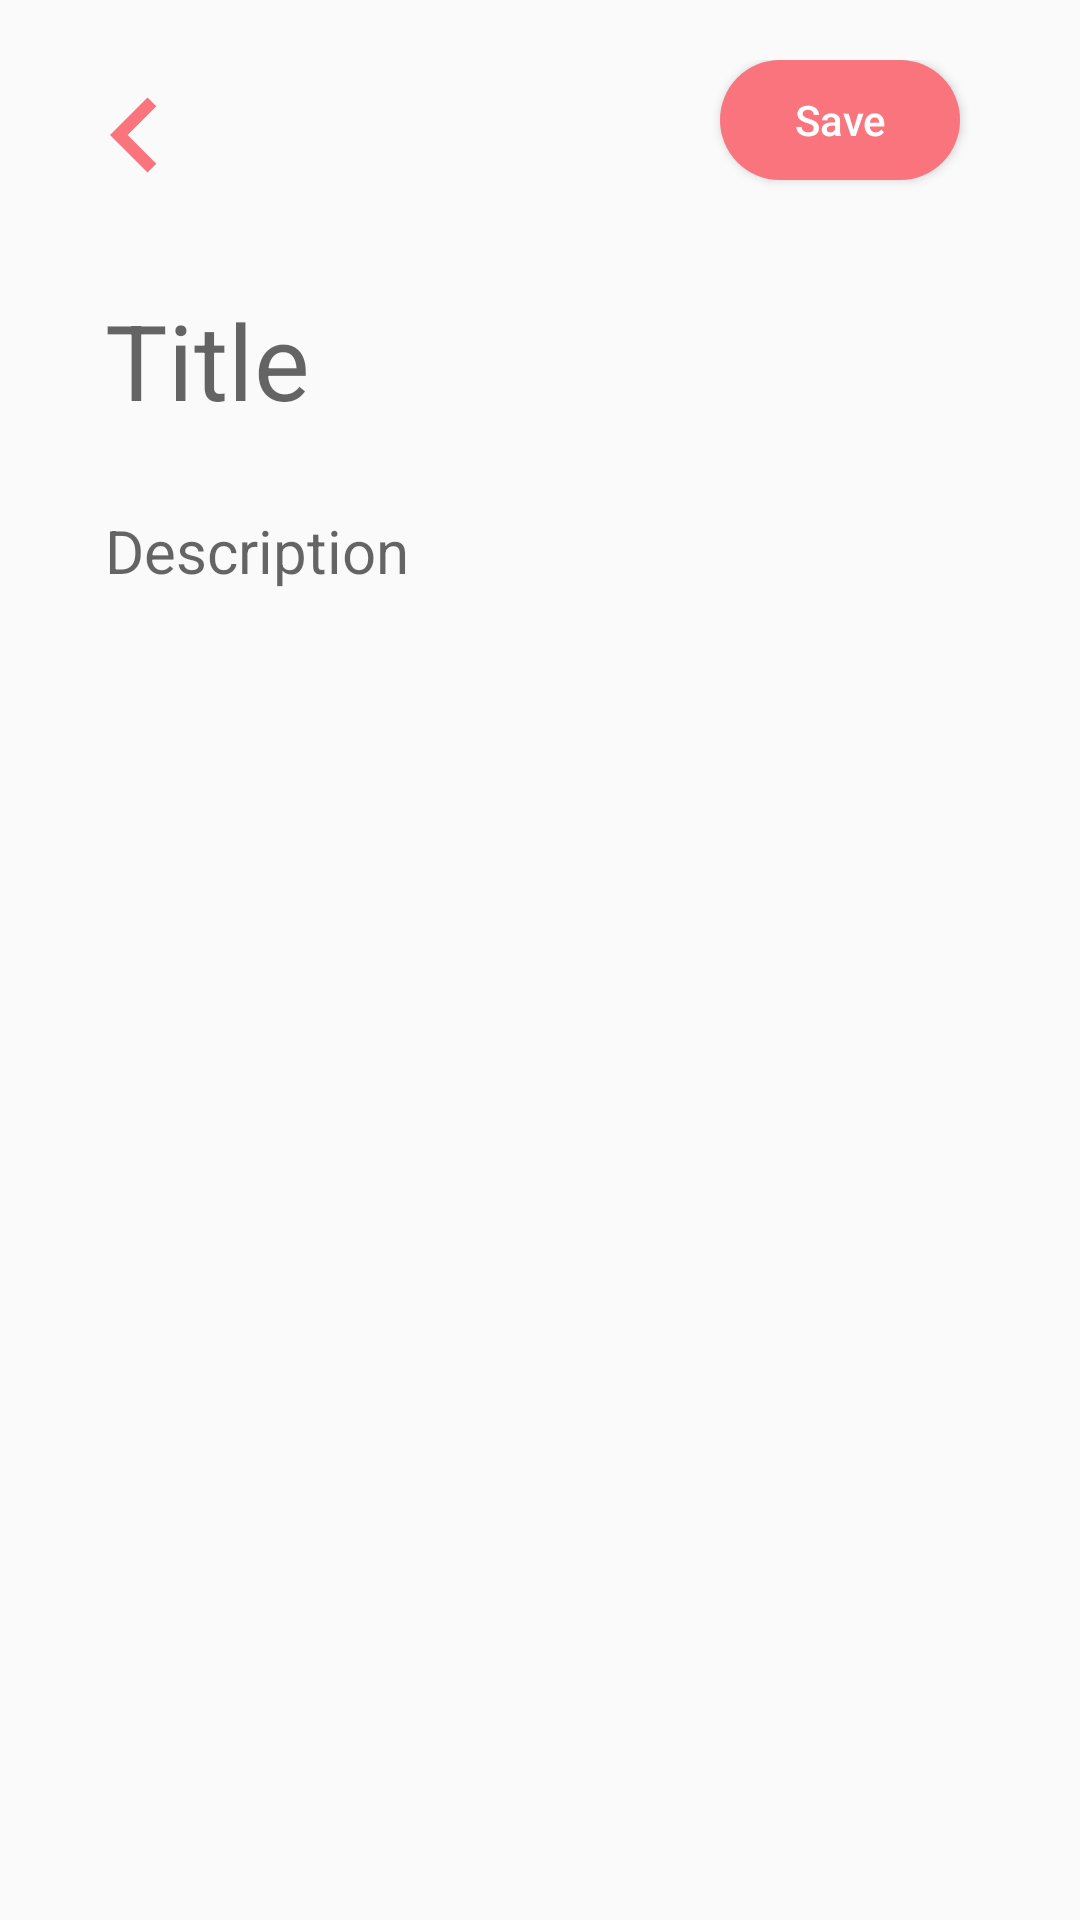

Where icons sit on this 1080x1920 app screen, as box(x1, y1, x2, y2):
chevron: box(110, 97, 156, 173)
